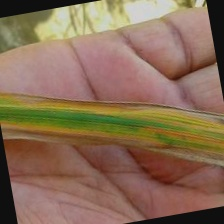Leaf_Blast: (20, 69, 196, 172)
